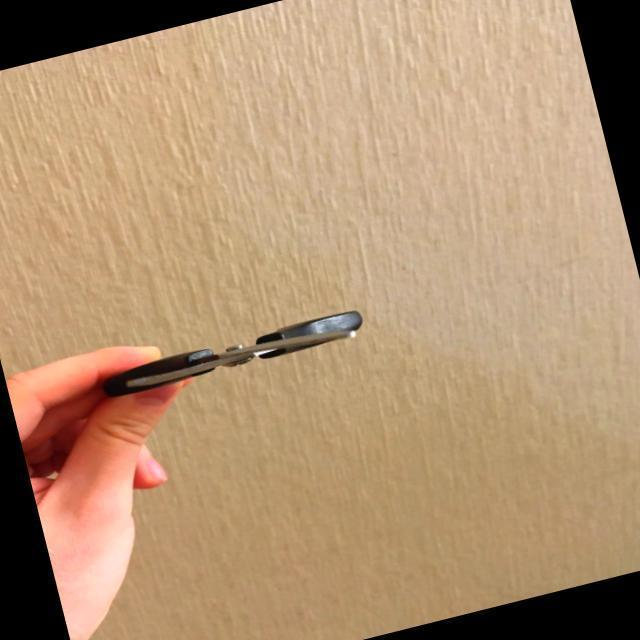scissors: (100, 304, 368, 405)
